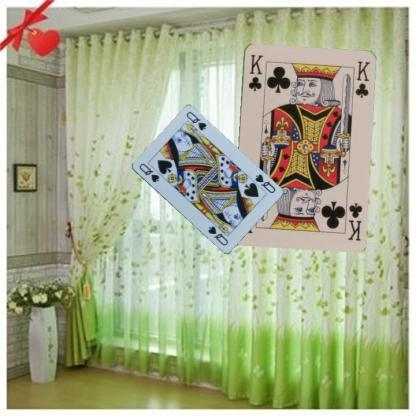Kc: (344, 200, 364, 241), (246, 52, 264, 92)
Qs: (136, 160, 160, 184), (252, 172, 276, 194)
